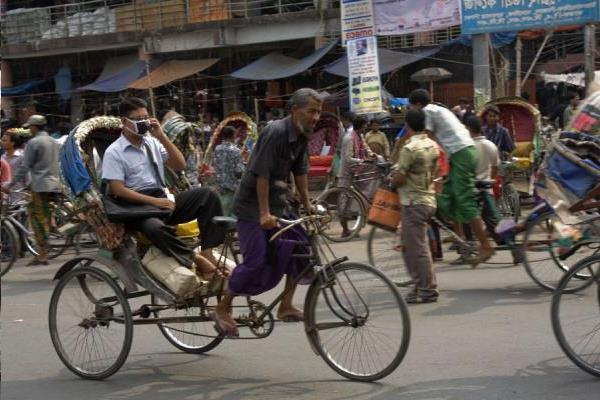Rickshaw: (44, 109, 426, 376), (469, 85, 552, 229), (542, 89, 597, 295), (288, 100, 362, 243), (156, 94, 213, 198), (205, 102, 257, 203)
